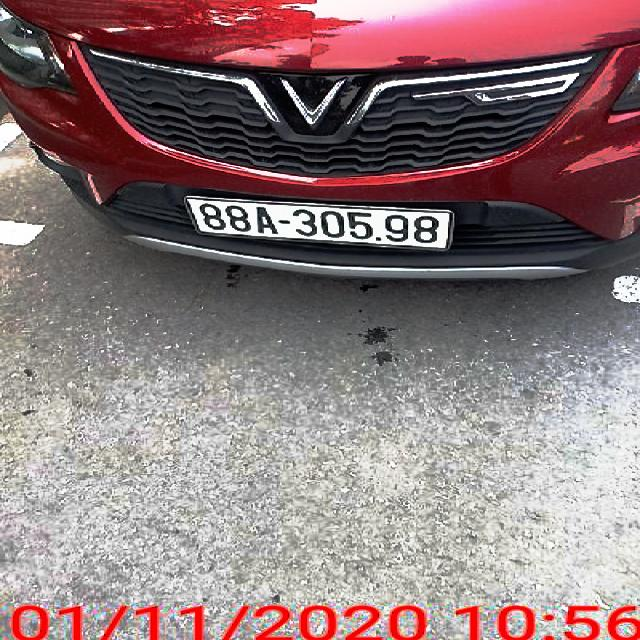license_plate: (189, 196, 456, 249)
